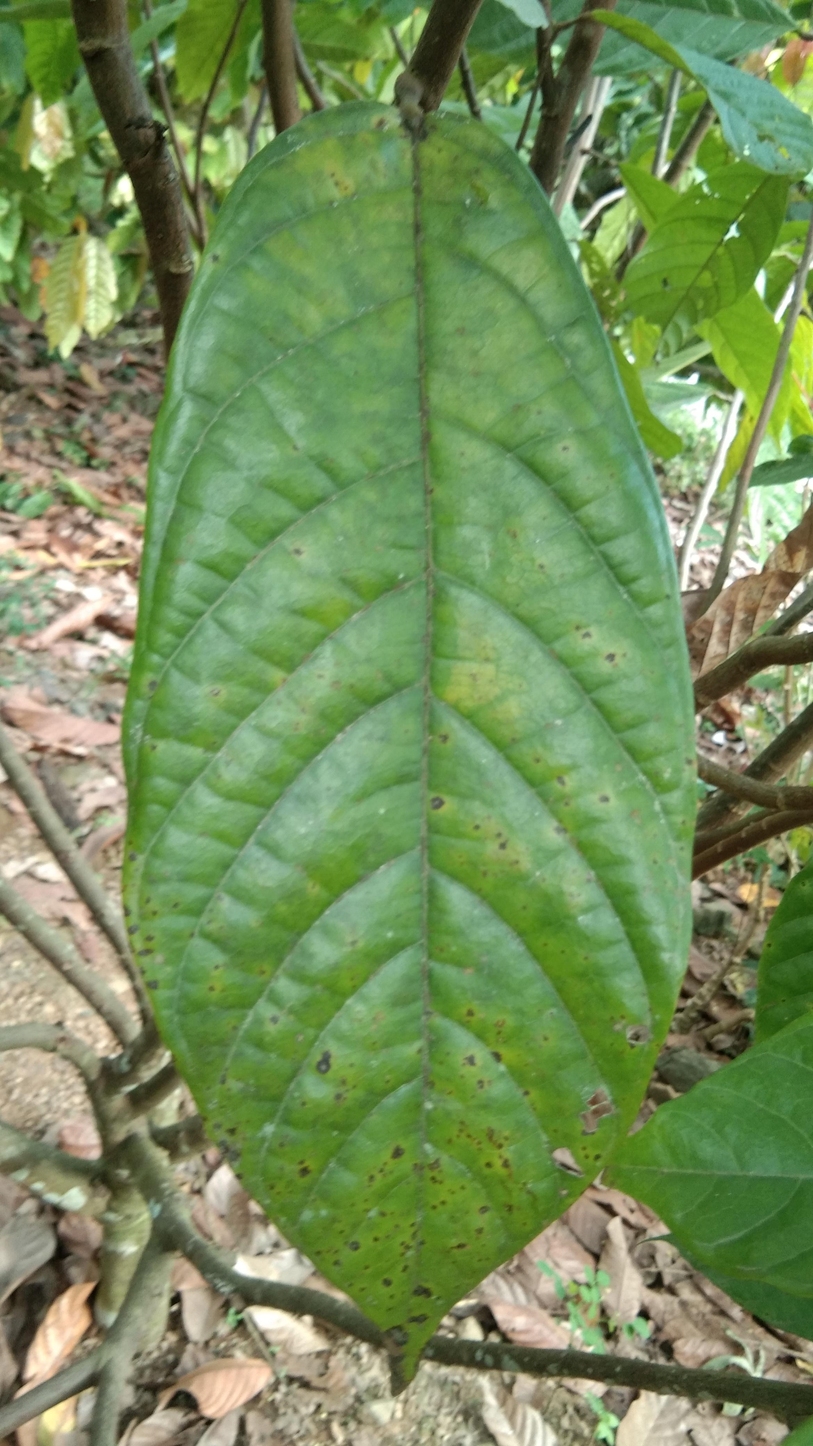deficiencia_potasio: (122, 97, 702, 1397)
